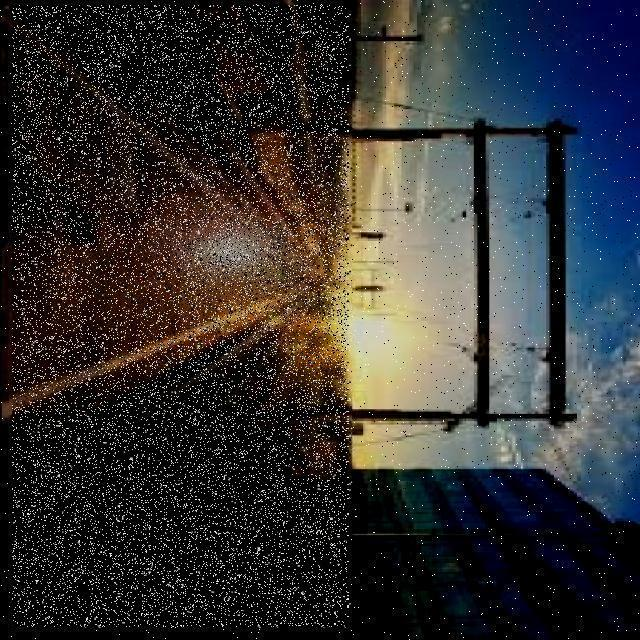rail: (13, 6, 349, 628)
